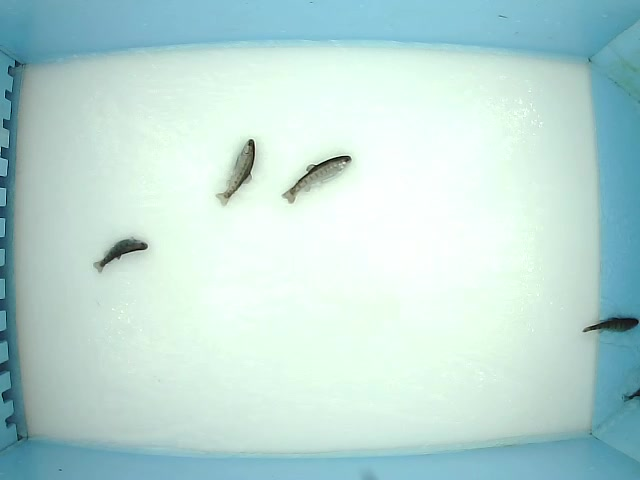fish: (280, 154, 353, 206), (214, 138, 257, 209), (91, 236, 149, 275), (581, 315, 639, 335)
